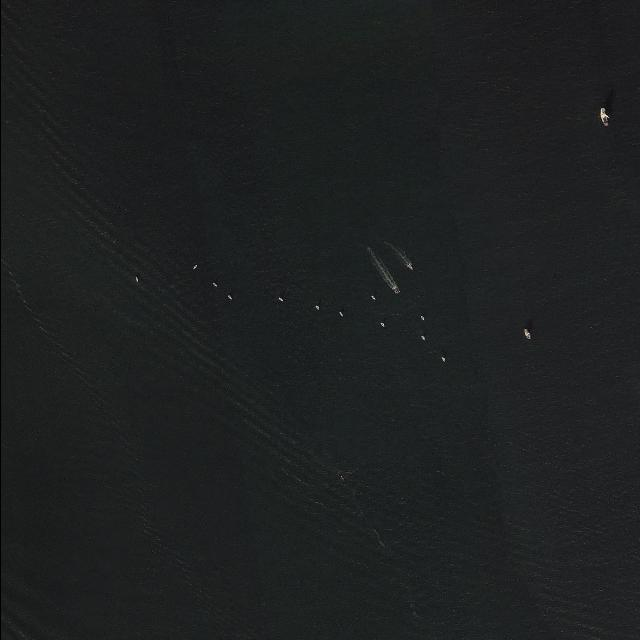ship: (599, 107, 609, 127), (522, 328, 530, 339), (405, 262, 413, 270), (392, 287, 398, 294), (226, 295, 232, 300), (338, 312, 343, 318), (379, 322, 384, 328), (419, 316, 424, 322), (134, 276, 138, 282), (192, 264, 196, 270), (277, 298, 283, 302), (370, 296, 375, 300), (440, 357, 444, 362), (212, 282, 216, 286), (314, 306, 318, 310), (420, 336, 424, 340)
